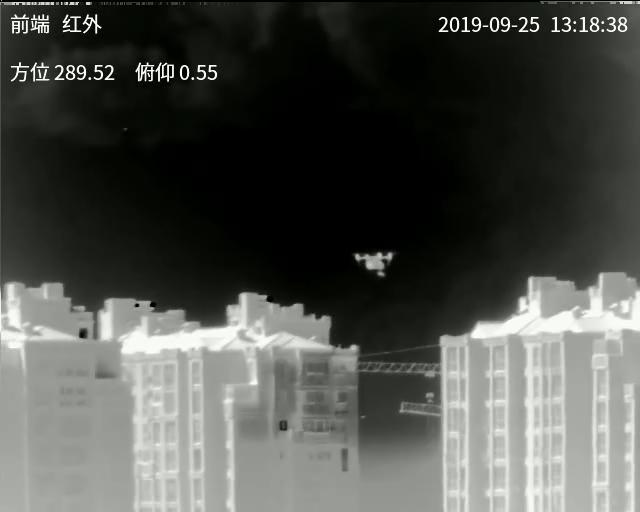uav: (354, 249, 396, 278)
